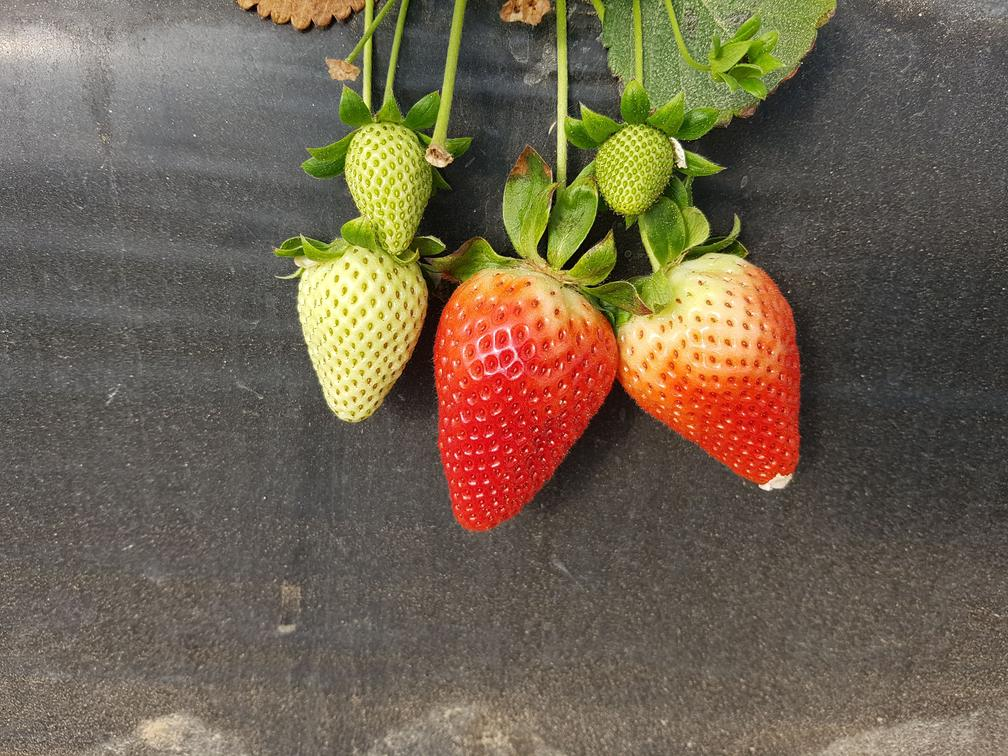Ripe: (434, 261, 620, 533), (625, 259, 816, 502)
Unripe: (291, 245, 435, 424), (345, 114, 433, 246), (592, 125, 682, 211)
